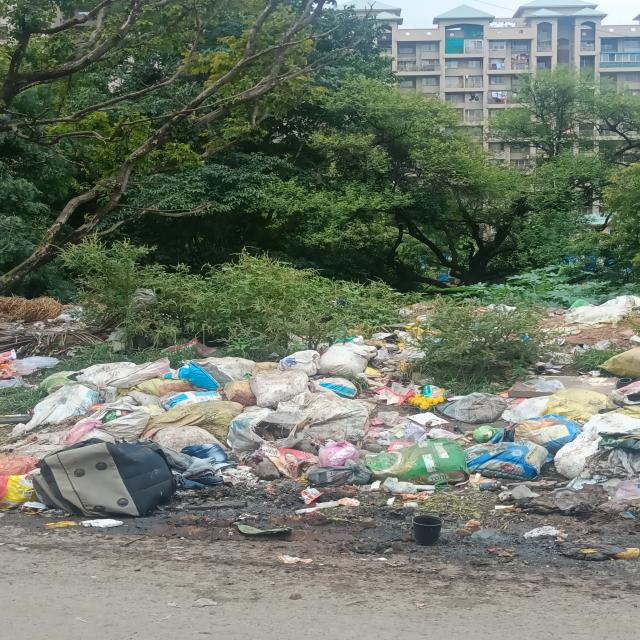garbage: (4, 341, 428, 514), (423, 305, 640, 526)
